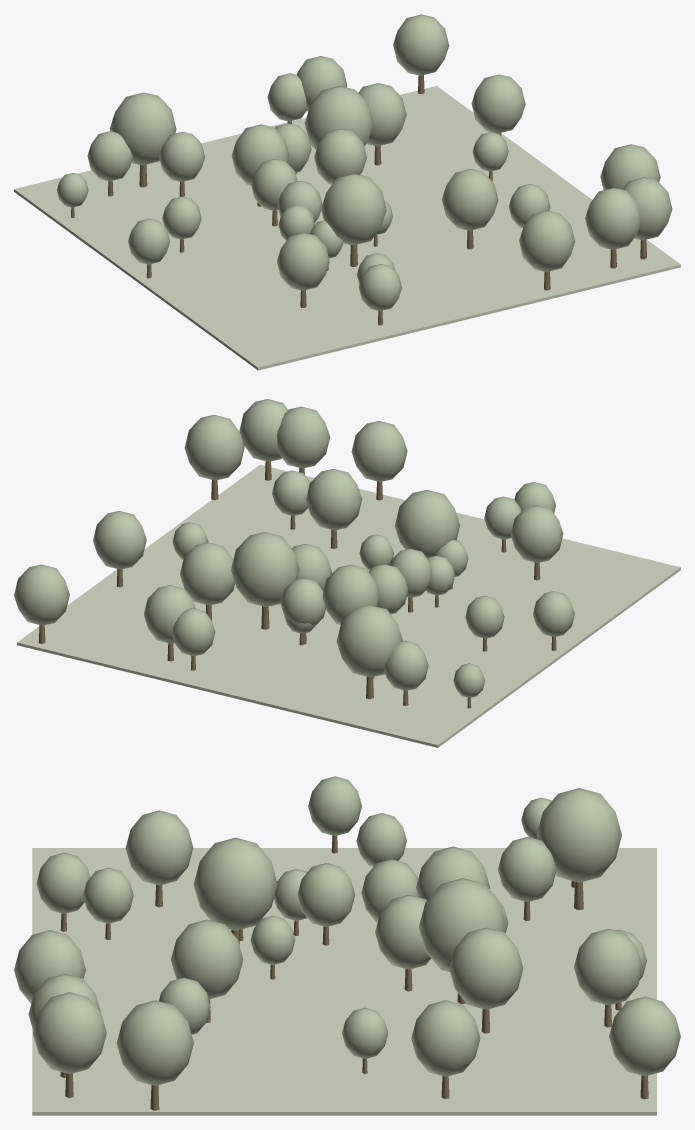
The picture shows the model from 3 angles, top to bottom: view 1: azimuth 30°, elevation 25°; view 2: azimuth 150°, elevation 25°; view 3: azimuth 270°, elevation 25°; orthographic projection. The views are drawn at different scales.
Parts seen in each view (by area): view 1: terrain, lod-near-25, lod-near-3, lod-near-14, lod-near-24, lod-near-2, lod-near-26, lod-near-27, lod-near-16, lod-near-18, lod-near-0, lod-near-20 (+18 smaller); view 2: terrain, lod-near-14, lod-near-3, lod-near-25, lod-near-6, lod-near-11, lod-near-24, lod-near-26, lod-near-27, lod-near-2, lod-near-16, lod-near-18 (+19 smaller); view 3: terrain, lod-near-3, lod-near-25, lod-near-6, lod-near-14, lod-near-11, lod-near-29, lod-near-27, lod-near-24, lod-near-16, lod-near-10, lod-near-18 (+16 smaller).
Boxes of the visible parts, <box> form: terrain: <box>14,86,680,370</box>; lod-near-25: <box>321,173,386,245</box>; lod-near-3: <box>109,92,176,165</box>; lod-near-14: <box>304,86,373,150</box>; lod-near-24: <box>442,169,498,230</box>; lod-near-2: <box>585,187,640,249</box>; lod-near-26: <box>519,210,575,271</box>; lod-near-27: <box>393,14,449,75</box>; lod-near-16: <box>471,74,525,133</box>; lod-near-18: <box>277,233,329,290</box>; lod-near-0: <box>314,129,366,184</box>; lod-near-20: <box>231,124,289,185</box>; terrain: <box>17,464,680,747</box>; lod-near-14: <box>231,532,299,606</box>; lod-near-3: <box>336,605,402,677</box>; lod-near-25: <box>395,490,460,558</box>; lod-near-6: <box>184,415,244,480</box>; lod-near-11: <box>180,542,234,605</box>; lod-near-24: <box>306,469,362,530</box>; lod-near-26: <box>351,421,407,481</box>; lod-near-27: <box>14,564,69,625</box>; lod-near-2: <box>277,406,330,468</box>; lod-near-16: <box>93,511,146,569</box>; lod-near-18: <box>510,505,563,562</box>; terrain: <box>32,848,656,1115</box>; lod-near-3: <box>536,788,621,882</box>; lod-near-25: <box>193,837,277,930</box>; lod-near-6: <box>116,1000,193,1085</box>; lod-near-14: <box>419,878,506,972</box>; lod-near-11: <box>449,927,523,1009</box>; lod-near-29: <box>33,992,106,1073</box>; lod-near-27: <box>609,996,680,1076</box>; lod-near-24: <box>171,919,243,999</box>; lod-near-16: <box>411,1000,480,1076</box>; lod-near-10: <box>574,929,642,1005</box>; lod-near-18: <box>125,810,193,885</box>.
Size of the model in its own units: 34.48 by 7.14 by 34.17.
